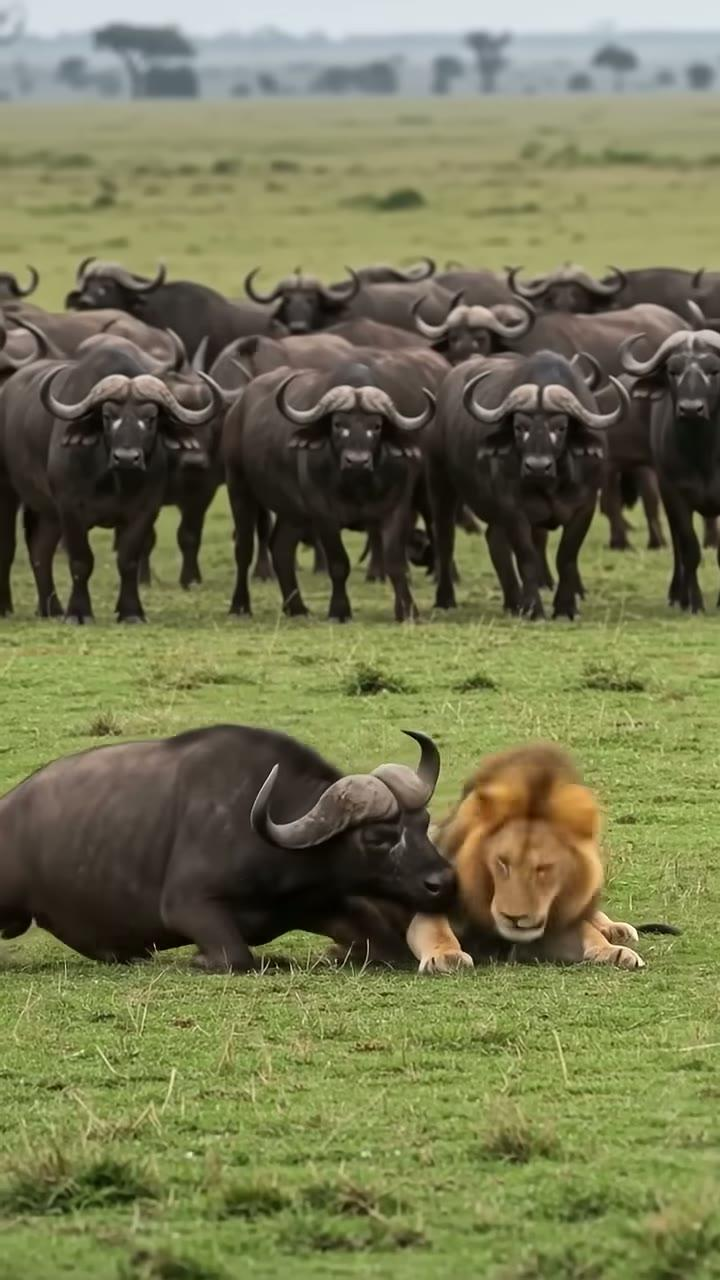Buffalo: (0, 188, 720, 664), (0, 704, 458, 913)
lions: (460, 721, 662, 1026)
